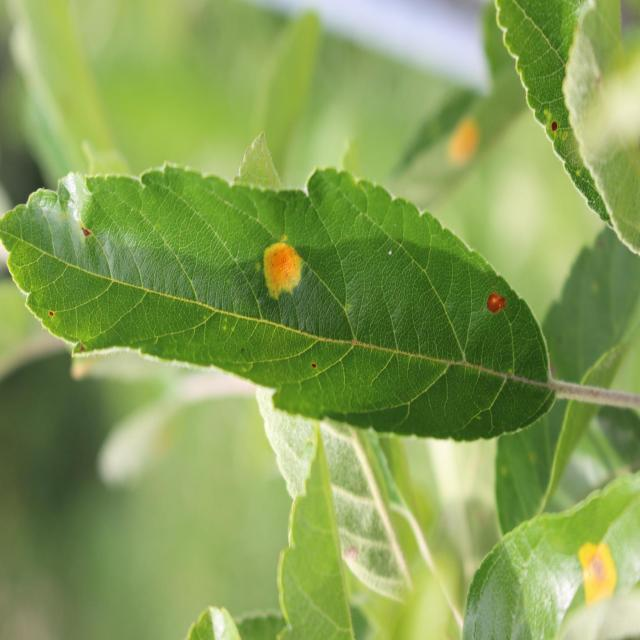Rust: (252, 240, 306, 308), (577, 536, 622, 612), (446, 113, 480, 175), (486, 288, 514, 321)
